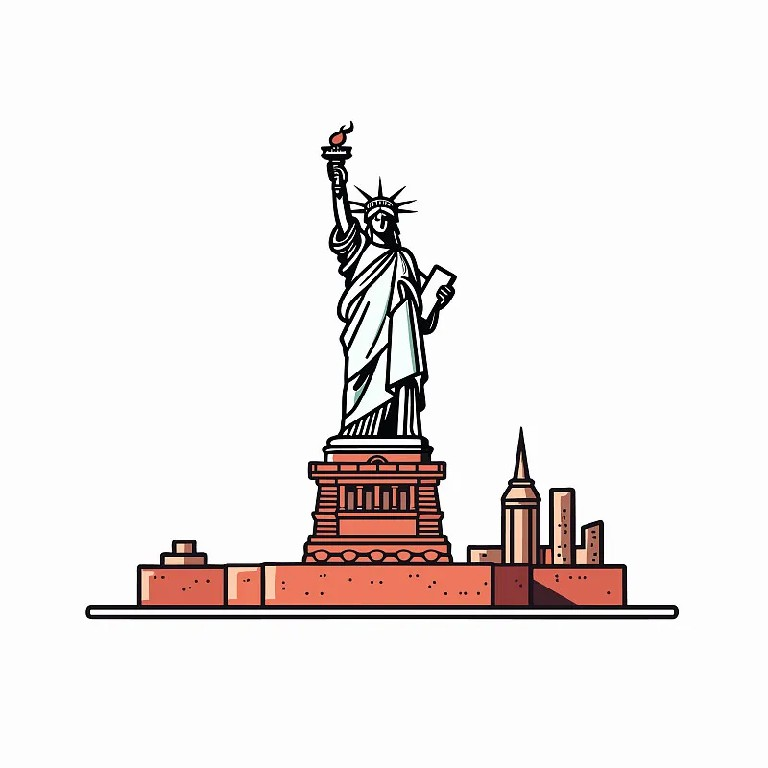SL: (301, 122, 457, 562)
